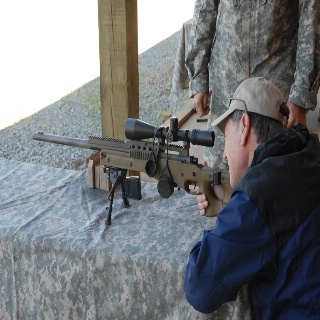rifle: (32, 113, 239, 224)
